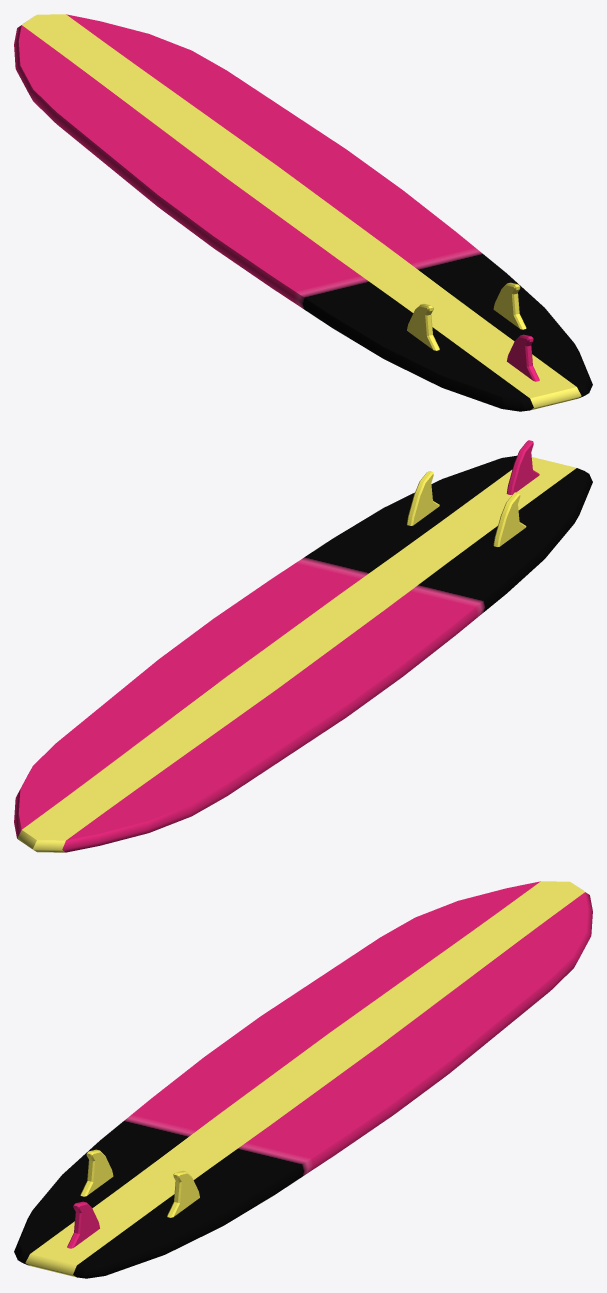
Rendered from surfboard-7.fbx.
3 views of the same model, one above another, from view 1: azimuth 30°, elevation 25°; view 2: azimuth 150°, elevation 25°; view 3: azimuth 330°, elevation 25° (orthographic).
Parts seen in each view (by area): view 1: pCube13; view 2: pCube13; view 3: pCube13.
Part boxes in pixels (left/top/right/bottom): pCube13: left=14, top=14, right=592, bottom=411; pCube13: left=14, top=440, right=592, bottom=852; pCube13: left=14, top=881, right=592, bottom=1278.
Size of the model in its own units: 9.89 by 2.48 by 46.66.
Materials: 1 (1 with a texture image).
